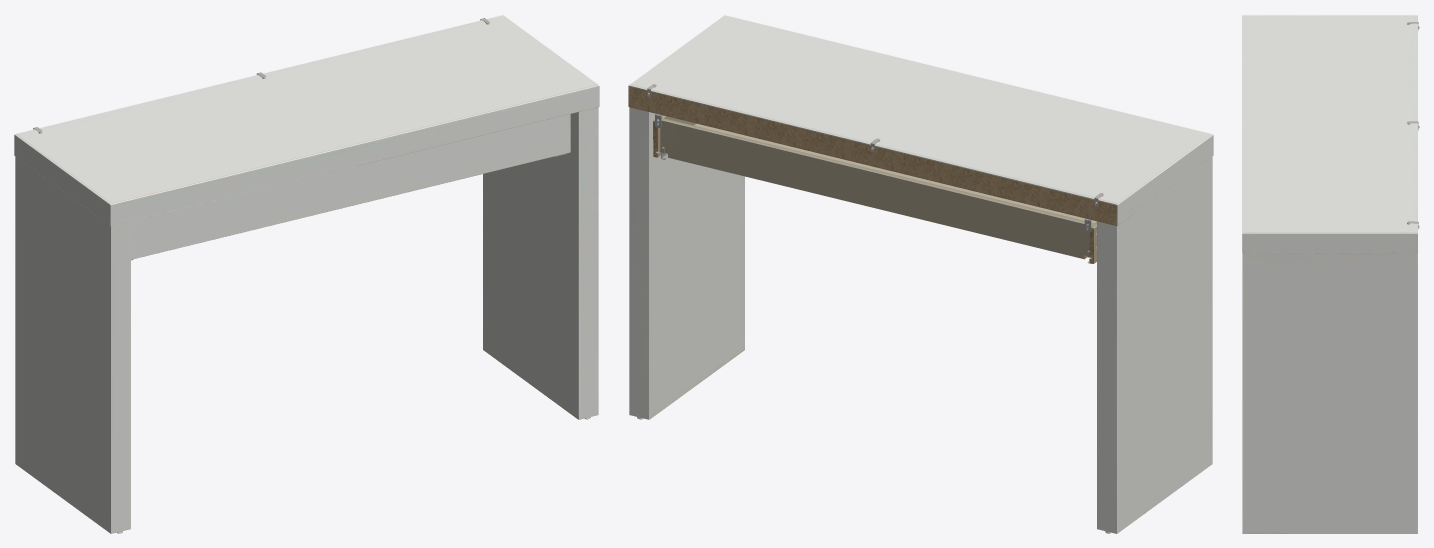
3 renders of one model, left to right at view 1: azimuth 30°, elevation 25°; view 2: azimuth 150°, elevation 25°; view 3: azimuth 270°, elevation 25°, orthographic. The views are drawn at different scales.
Visible parts, largest first — view 1: 10203610-MALM001; view 2: 10203610-MALM001; view 3: 10203610-MALM001.
Boxes of the visible parts, x1,y1,x2,y2 form: 10203610-MALM001: (14,15,599,533); 10203610-MALM001: (628,15,1213,533); 10203610-MALM001: (1242,15,1419,533).
Bounding box in the file's own units: 1.2 × 0.784 × 0.4131.
Materials: 2 (1 with a texture image).
